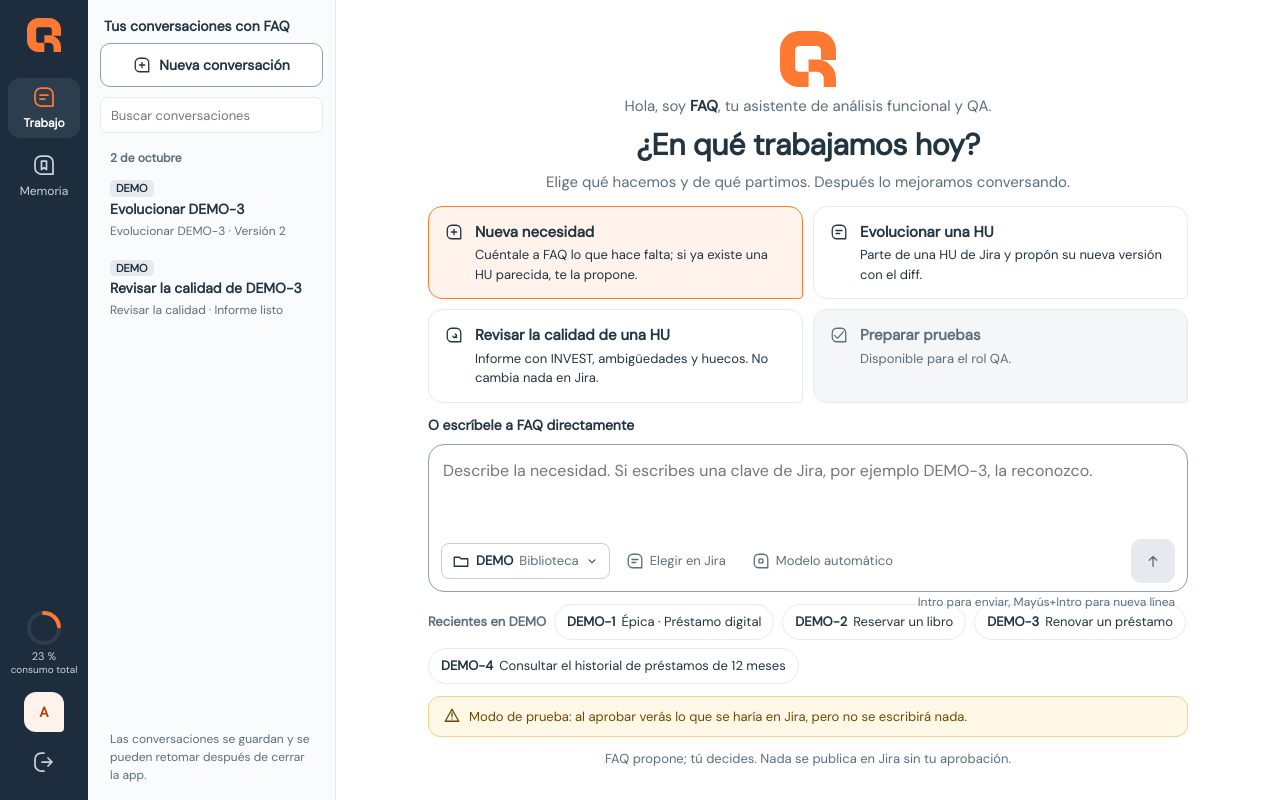
Iterar: huecos (UI.md §4.5, DESIGN-DECISIONS.md §4 bis) › un error en el SSE de la iteración muestra su tarjeta y vuelve a dejar pedir cambios
This screenshot has width=1280, height=800.
Click the button "DEMO Evolucionar DEMO-3 Evolucionar DEMO-3 · Versión 2" at x=212, y=210, box [100,171,323,248]
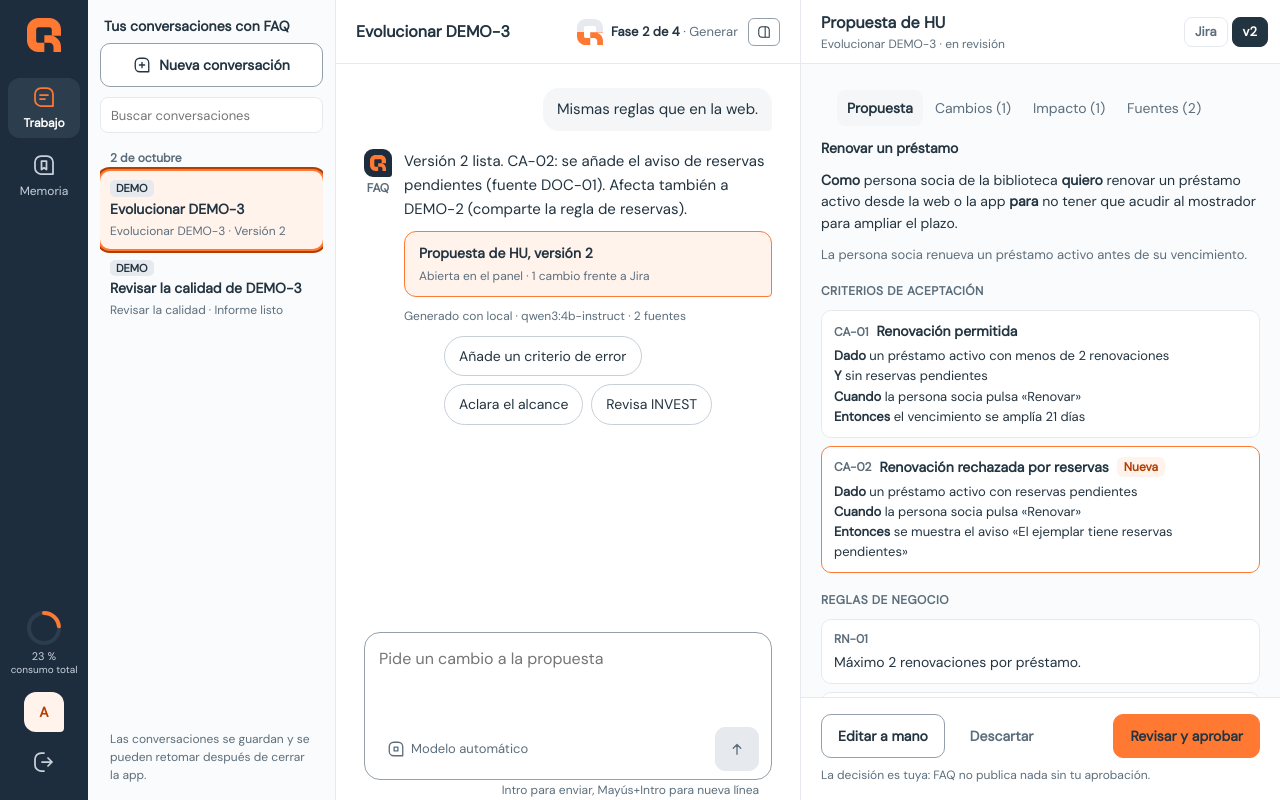
Type "Cambio ficticio" into the text box named "Pide un cambio a la propuesta (Intro para enviar, Mayús+Intro para nueva línea)" at x=568, y=683, box [377,645,759,721]
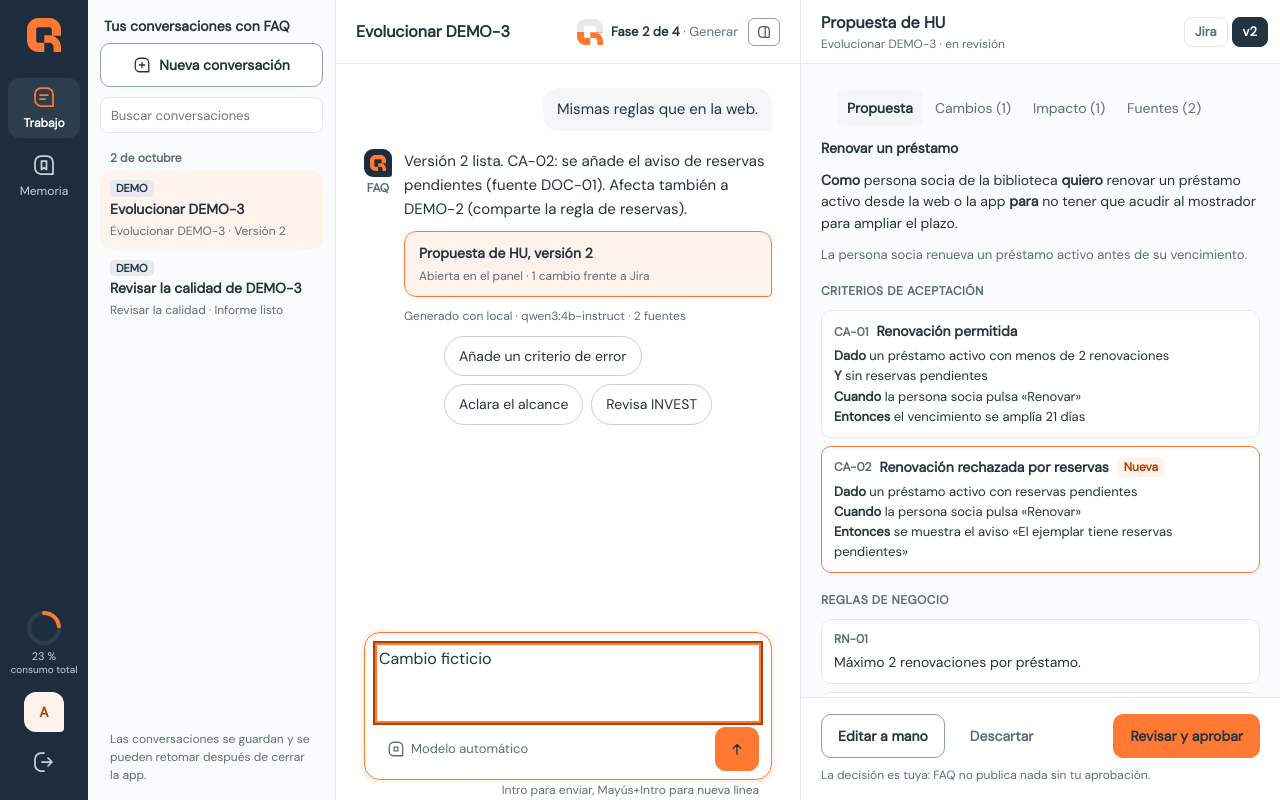
Click the button named "Enviar" at x=737, y=749, box [715,727,759,771]
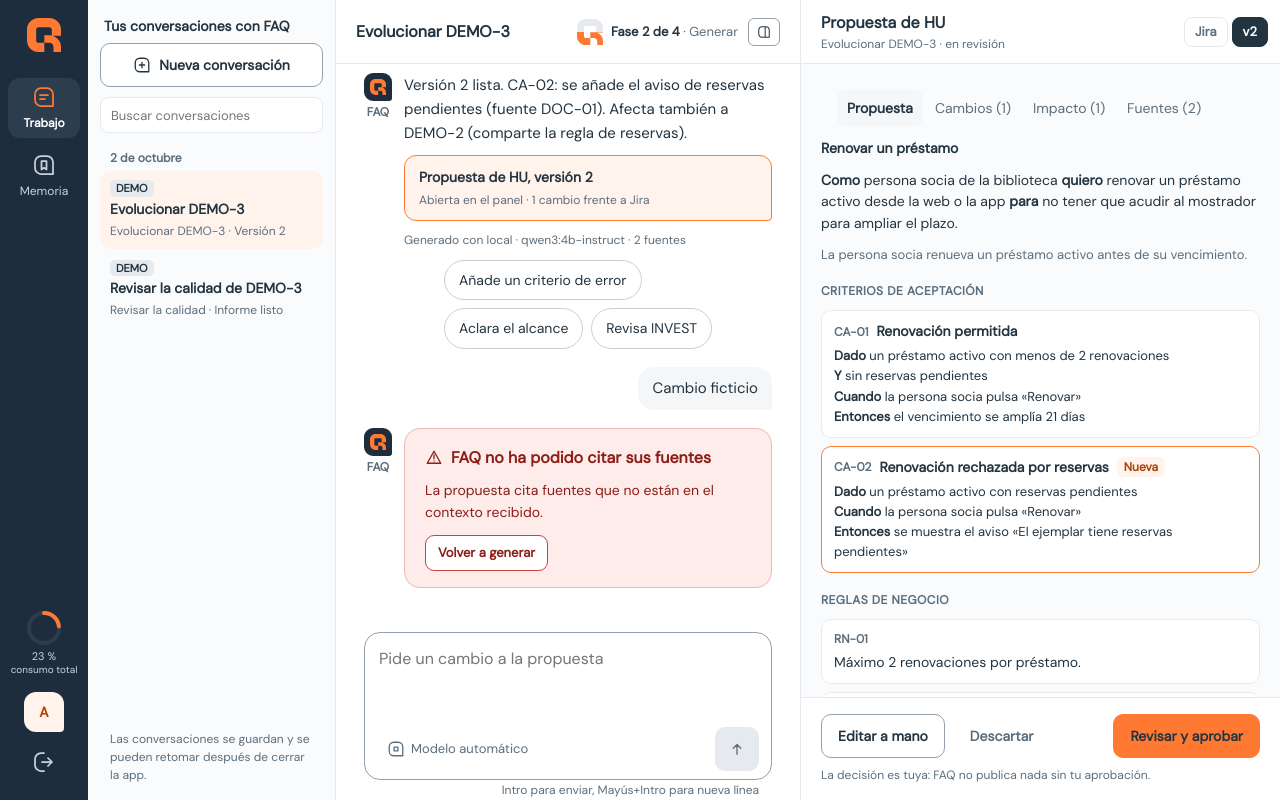
Now the text box named "Pide un cambio a la propuesta (Intro para enviar, Mayús+Intro para nueva línea)" is enabled, box [377,645,759,721]
Now the button "Descartar" is enabled, box [953,714,1050,758]
Now the heading "FAQ no ha podido citar sus fuentes" is shown, box [425,445,711,471]
